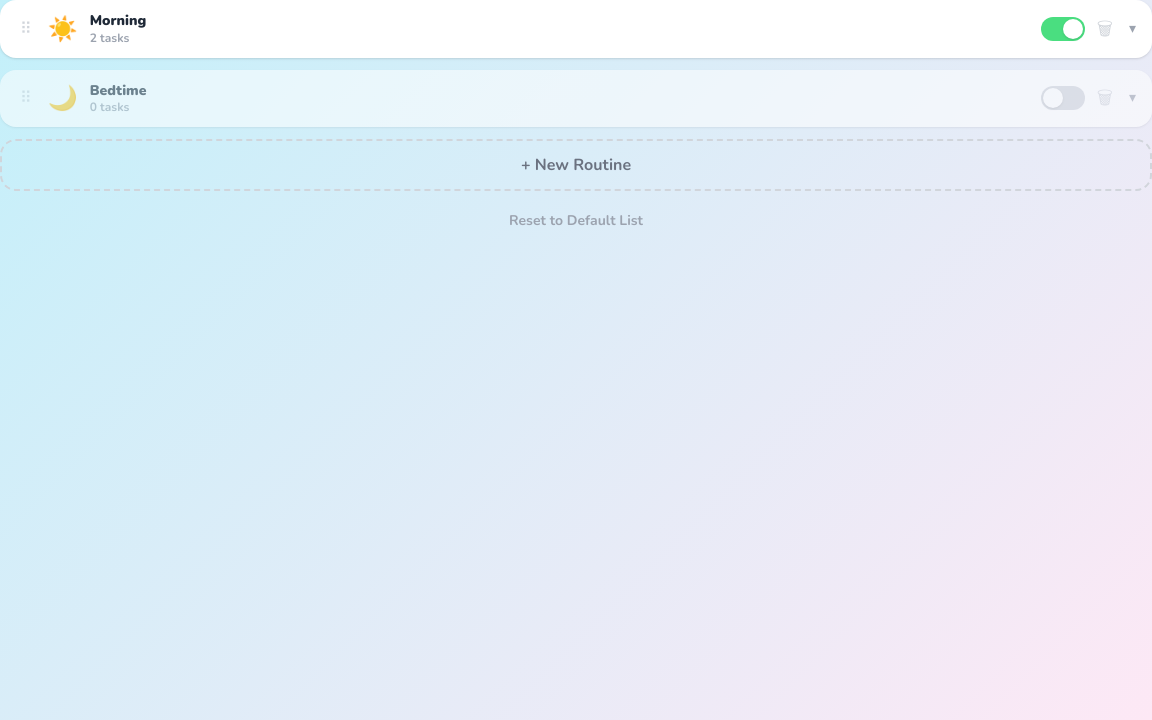
Scenario: RoutinesPanel — expand / collapse › collapses an open section when clicked again
What coordinates should you click on to do the following:
click the text "Morning"
I would click on:
 (118, 20)
Its box is [90, 11, 146, 30].
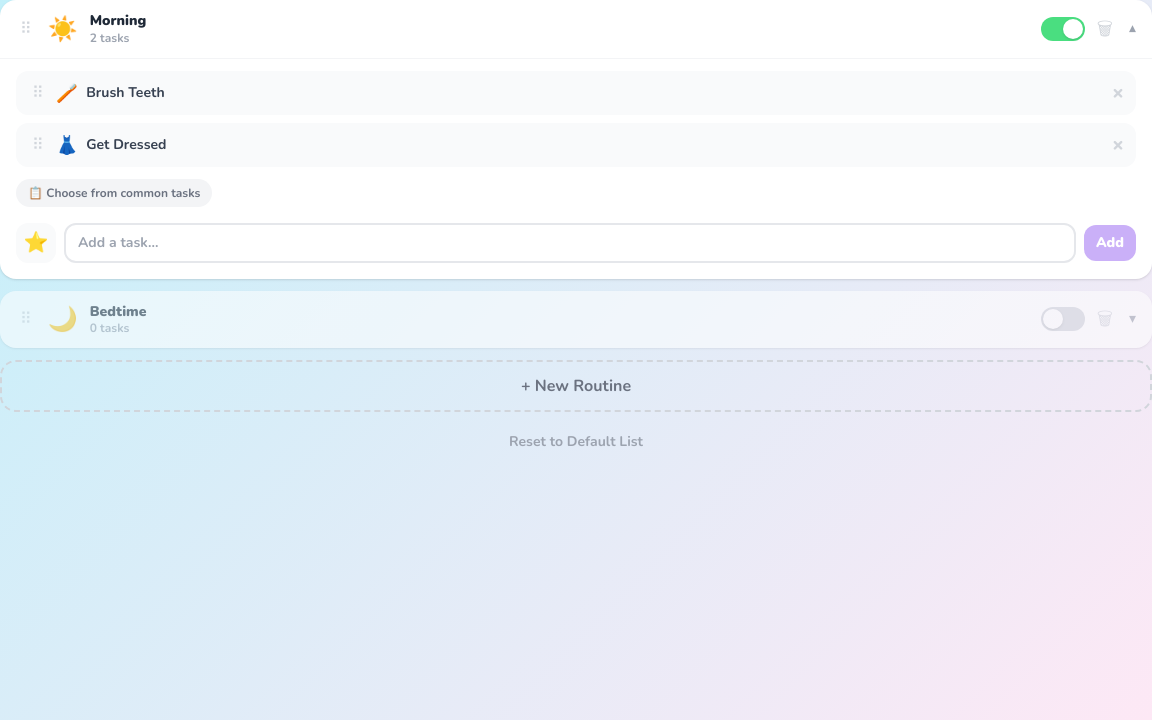
Now the text "Brush Teeth" is shown, box [86, 82, 165, 102]
What coordinates should you click on to do the following:
click the text "Morning"
I would click on:
 (118, 20)
Its box is [90, 11, 146, 30].
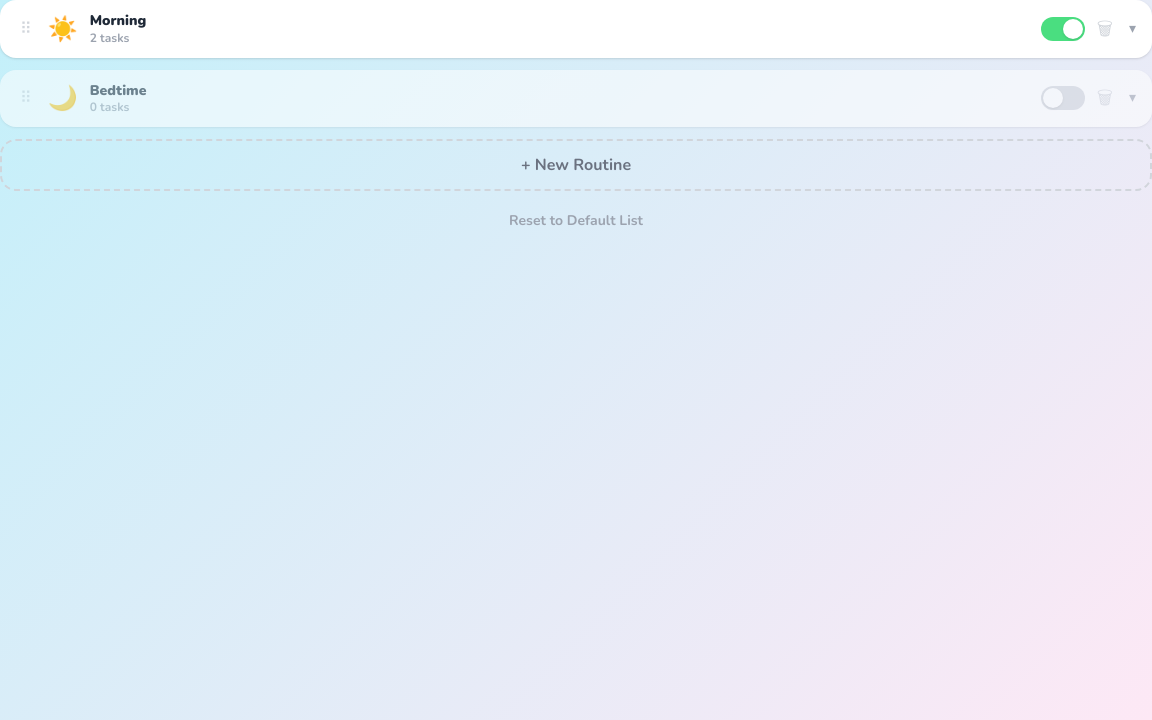
Now the text "Brush Teeth" is gone
